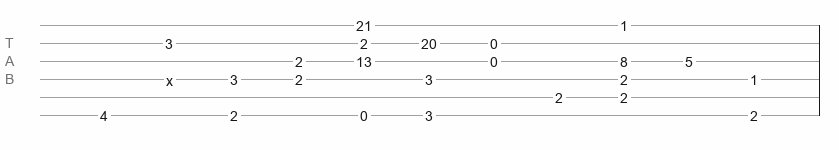0: (360, 108, 368, 118), (490, 54, 498, 64), (490, 36, 498, 46)
1: (620, 18, 628, 28), (750, 72, 758, 82)
13: (356, 54, 372, 64)
2: (230, 108, 238, 118), (295, 72, 303, 82), (295, 54, 303, 64), (360, 36, 368, 46), (555, 90, 563, 100), (620, 72, 628, 82), (620, 90, 628, 100), (750, 108, 758, 118)
20: (421, 36, 437, 46)
21: (356, 18, 372, 28)
3: (165, 36, 173, 46), (230, 72, 238, 82), (425, 72, 433, 82), (425, 108, 433, 118)
4: (100, 108, 108, 118)
5: (685, 54, 693, 64)
8: (620, 54, 628, 64)
x: (166, 73, 173, 81)
